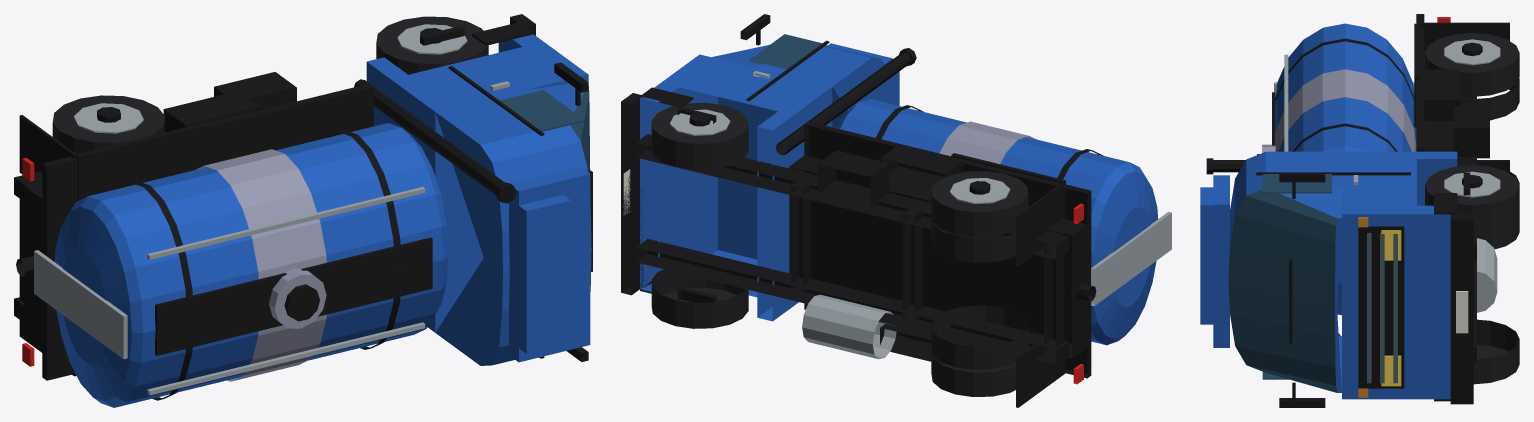
3 views of the same model, side by side, from view 1: azimuth 30°, elevation 25°; view 2: azimuth 150°, elevation 25°; view 3: azimuth 270°, elevation 25° (orthographic). The views are drawn at different scales.
Visible parts, largest first — view 1: default_tank, default_cab_upper, default_walkway, default_deck, default_band, default_air_dam_top, default_cab_arch, default_air_dam, default_rear_guard1, default_cab_back, default_rear_out1, default_ladder (+16 smaller); view 2: default_subframe, default_tank, default_cab_arch, default_chassis-1, default_cab_front, default_cab_back, default_chassis1, default_front1, default_rear_out1, default_deck, default_fuel_tank, default_front-1 (+19 smaller); view 3: default_cab_upper, default_cab_front, default_tank, default_grille, default_rear_out1, default_front1, default_bumper, default_band, default_cab_arch, default_air_dam, default_front-1, default_battery_box (+28 smaller).
Part boxes in pixels (box(x1,y1,x2,y2)): default_tank: box(54, 123, 448, 407); default_cab_upper: box(435, 84, 591, 365); default_walkway: box(155, 237, 432, 355); default_deck: box(42, 84, 373, 380); default_band: box(195, 149, 326, 381); default_air_dam_top: box(519, 195, 570, 353); default_cab_arch: box(408, 47, 567, 304); default_air_dam: box(509, 166, 590, 362); default_rear_guard1: box(76, 123, 208, 200); default_cab_back: box(366, 57, 452, 332); default_rear_out1: box(52, 95, 164, 154); default_ladder: box(34, 250, 127, 359); default_subframe: box(789, 155, 1087, 358); default_tank: box(836, 98, 1157, 345); default_cab_arch: box(679, 59, 816, 297); default_chassis-1: box(636, 239, 1068, 364); default_cab_front: box(640, 54, 717, 291); default_cab_back: box(757, 83, 832, 321); default_chassis1: box(636, 134, 1068, 259); default_front1: box(651, 102, 748, 169); default_rear_out1: box(931, 171, 1028, 236); default_deck: box(804, 121, 1091, 378); default_fuel_tank: box(802, 294, 897, 359); default_front-1: box(651, 269, 748, 328); default_cab_upper: box(1228, 151, 1341, 392); default_cab_front: box(1342, 205, 1450, 399); default_tank: box(1275, 23, 1416, 315); default_grille: box(1358, 226, 1404, 388); default_rear_out1: box(1425, 33, 1519, 96); default_front1: box(1425, 165, 1519, 230); default_bumper: box(1450, 214, 1473, 404); default_band: box(1275, 69, 1416, 151); default_cab_arch: box(1342, 159, 1416, 205); default_air_dam: box(1213, 175, 1229, 347); default_front-1: box(1473, 319, 1519, 384); default_battery_box: box(1454, 103, 1489, 158).
Size of the model in its own units: 7.7 by 3.9 by 4.85.
